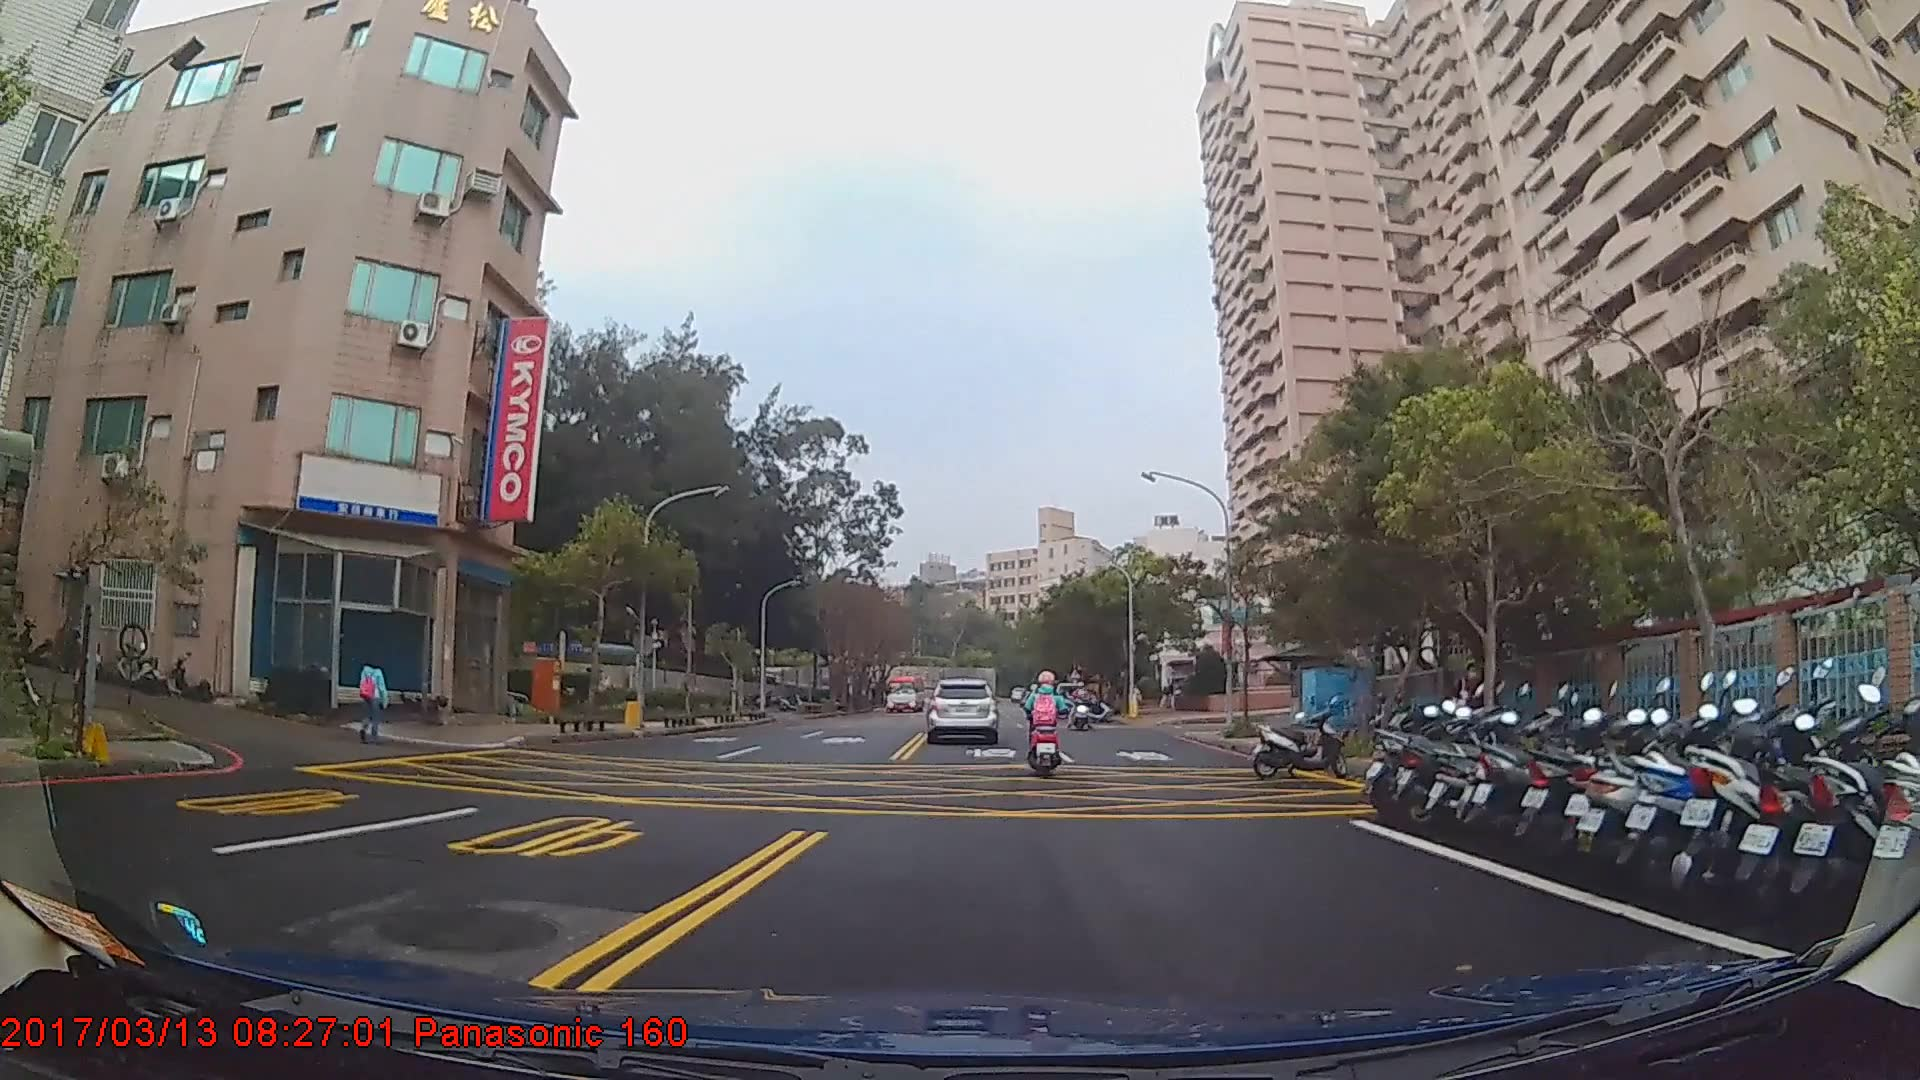pedestrian: (358, 648, 389, 744)
rider: (1022, 661, 1069, 775), (1068, 680, 1092, 731)
vehicle: (924, 676, 997, 742), (884, 672, 925, 711)
